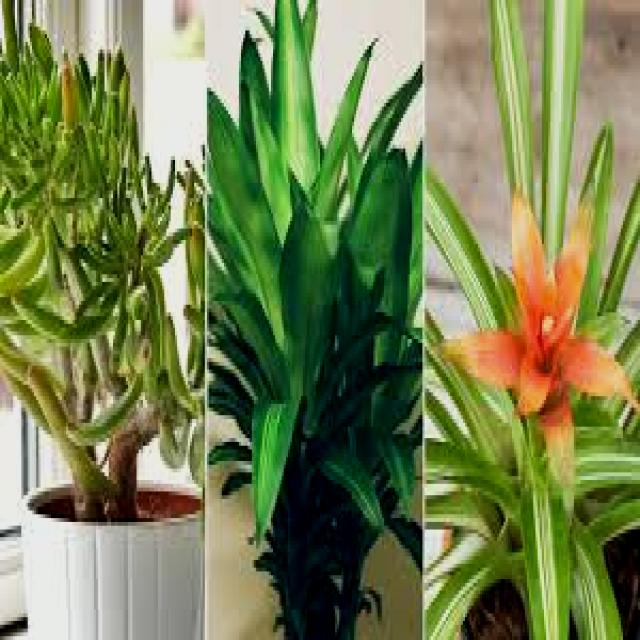organic: (222, 54, 394, 617), (16, 68, 163, 491)
